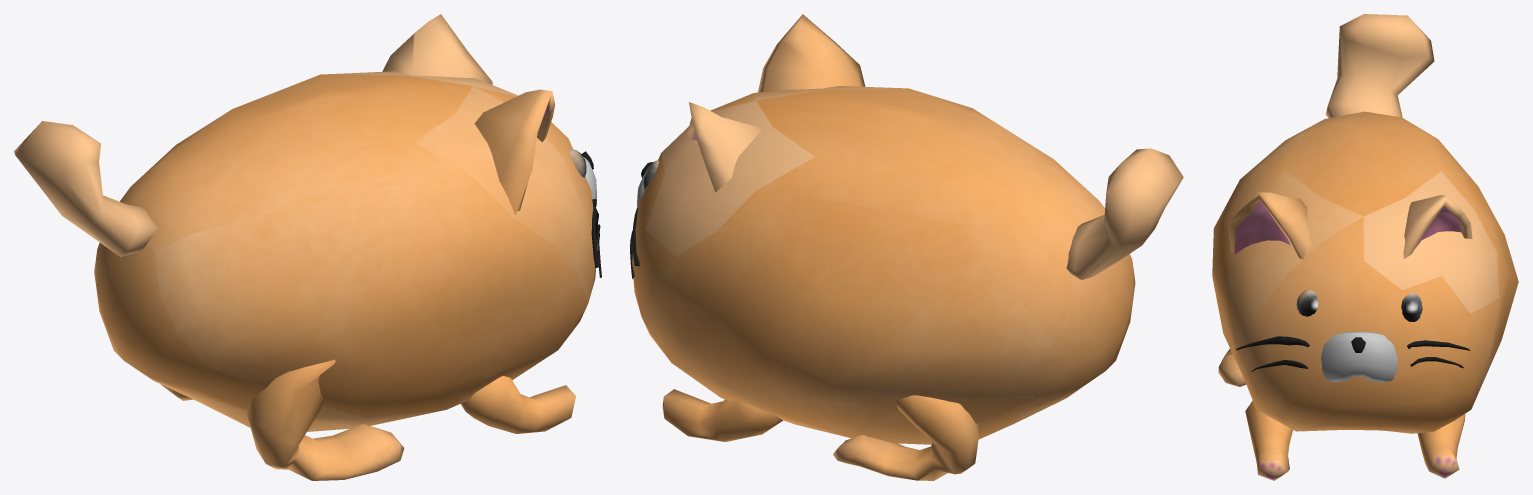
File: CatPlushie.fbx
3 views of the same model, side by side, from view 1: azimuth 30°, elevation 25°; view 2: azimuth 150°, elevation 25°; view 3: azimuth 270°, elevation 25° (orthographic). The views are drawn at different scales.
Visible parts, largest first — view 1: CatPlushie; view 2: CatPlushie; view 3: CatPlushie.
Boxes of the visible parts, <box> form: CatPlushie: <box>14,14,601,480</box>; CatPlushie: <box>630,14,1183,480</box>; CatPlushie: <box>1212,14,1518,480</box>.
Size of the model in its own units: 108 by 66.95 by 63.12.
